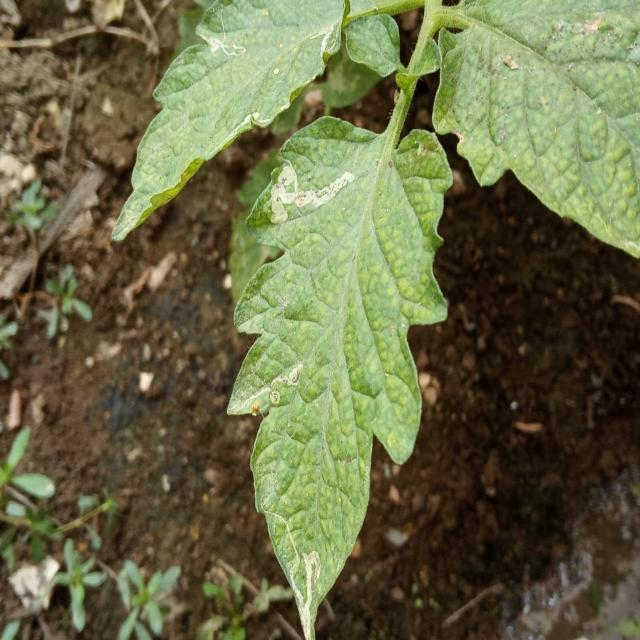Tuta absoluta: (252, 139, 360, 226), (291, 550, 321, 639), (204, 32, 246, 60), (275, 362, 310, 393), (285, 550, 304, 578), (269, 384, 279, 403)
